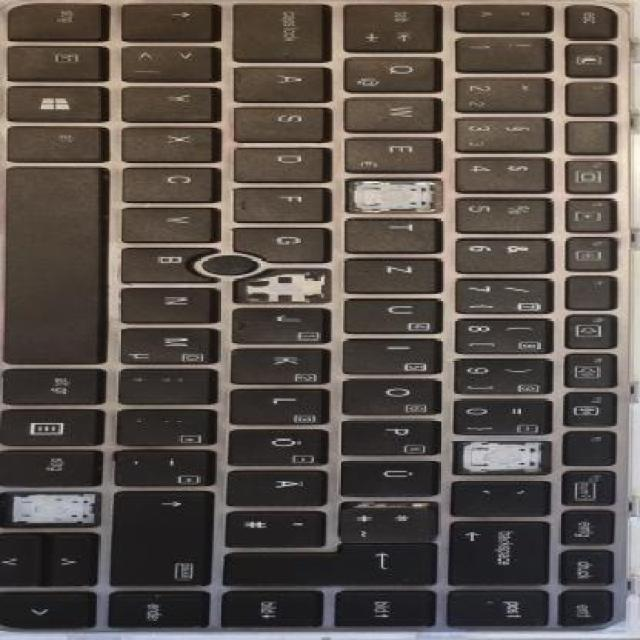Keyboard problems: (235, 269, 329, 303), (3, 492, 98, 525), (346, 180, 438, 212), (455, 442, 549, 472)
